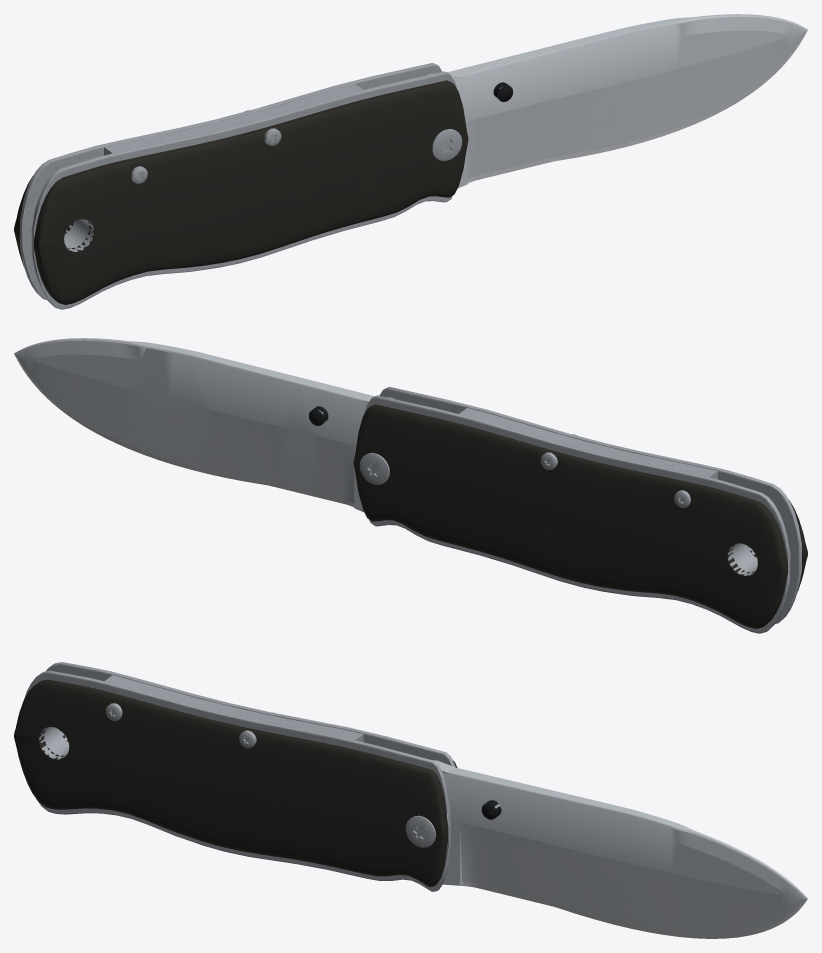
The model's file is nomad_lod1.glb.
3 views of the same model, one above another, from view 1: azimuth 30°, elevation 25°; view 2: azimuth 150°, elevation 25°; view 3: azimuth 330°, elevation 25° (orthographic).
Visible parts, largest first — view 1: body, blade_pivot_mesh; view 2: body, blade_pivot_mesh; view 3: body, blade_pivot_mesh.
Part boxes in pixels (bbox=[...]): body: bbox=[14, 63, 468, 309]; blade_pivot_mesh: bbox=[428, 14, 807, 188]; body: bbox=[353, 387, 807, 633]; blade_pivot_mesh: bbox=[14, 338, 393, 512]; body: bbox=[14, 662, 457, 891]; blade_pivot_mesh: bbox=[432, 760, 807, 938].
Size of the model in its own units: 0.234 by 0.0416 by 0.0146.
5 materials, 5 textured.
